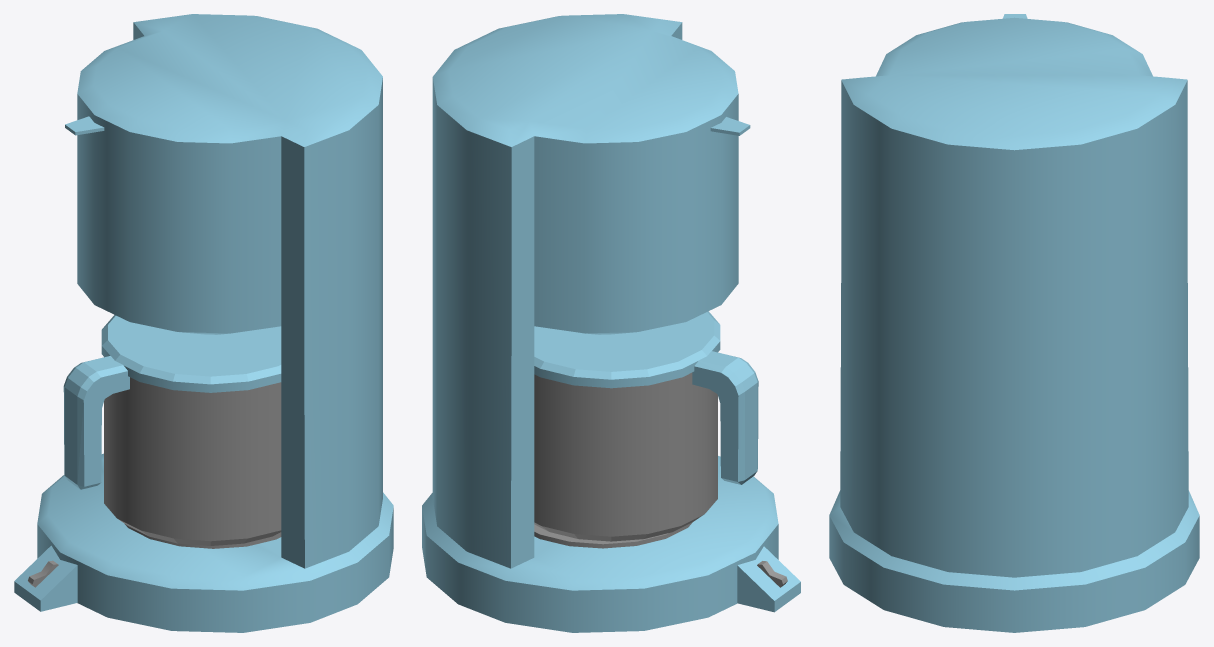
The model's file is PROPS_coffeeMaker_01.FBX.
The picture shows the model from 3 angles, left to right: view 1: azimuth 30°, elevation 25°; view 2: azimuth 150°, elevation 25°; view 3: azimuth 270°, elevation 25°; orthographic projection.
Parts seen in each view (by area): view 1: PROPS_coffeeMaker_01_base, PROPS_coffeeMaker_01_pot; view 2: PROPS_coffeeMaker_01_base, PROPS_coffeeMaker_01_pot; view 3: PROPS_coffeeMaker_01_base.
Part boxes in pixels (x1,y1,x2,y2): PROPS_coffeeMaker_01_base: (14, 14, 393, 632); PROPS_coffeeMaker_01_pot: (63, 315, 281, 545); PROPS_coffeeMaker_01_base: (422, 14, 800, 632); PROPS_coffeeMaker_01_pot: (534, 311, 758, 541); PROPS_coffeeMaker_01_base: (829, 14, 1199, 632).
Bounding box in the file's own units: 37.81 × 50.39 × 34.84.
